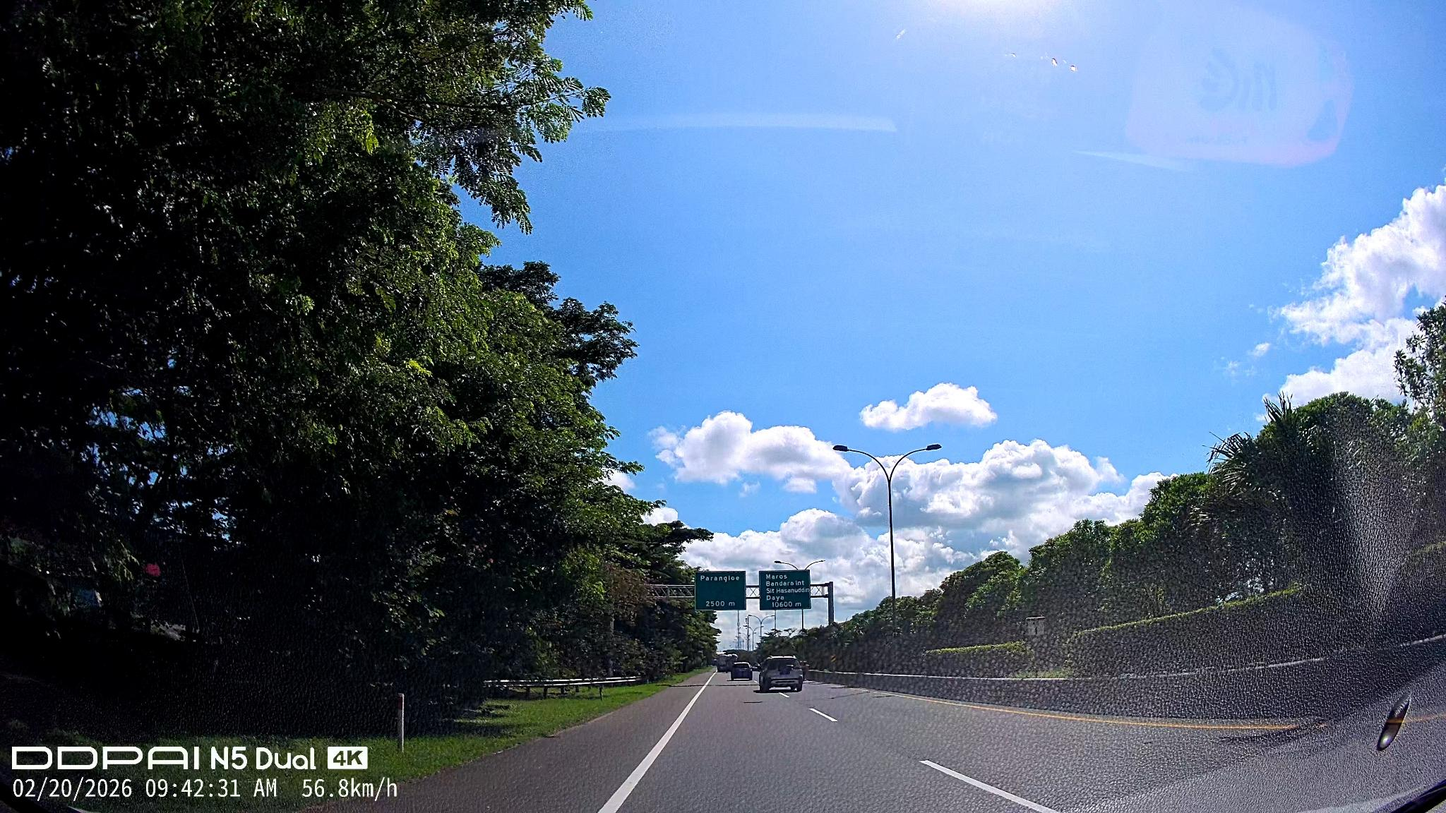rambu_teks: (759, 569, 812, 611), (694, 570, 747, 612)
